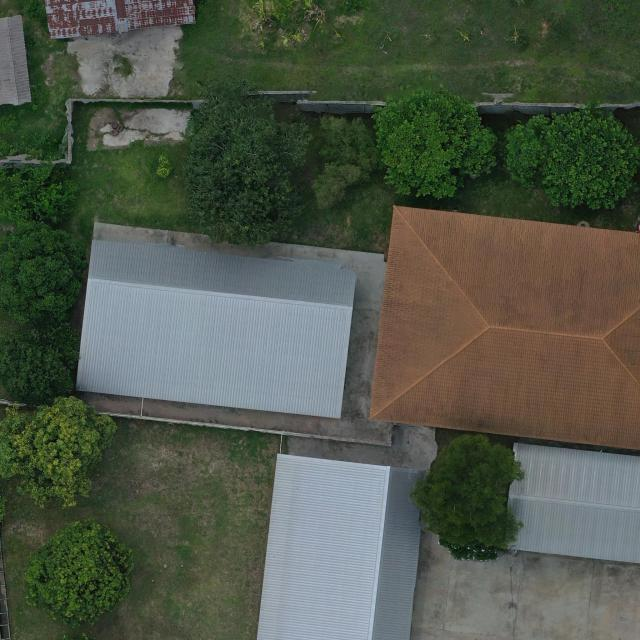Tree: (184, 76, 312, 247), (410, 433, 527, 561), (370, 84, 499, 198), (0, 394, 119, 510), (505, 108, 640, 210), (24, 517, 135, 629), (0, 220, 87, 322), (312, 112, 381, 211), (0, 321, 75, 401), (0, 163, 78, 220)
